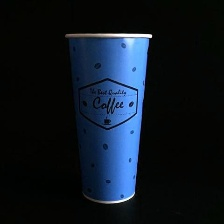paper_cup: (59, 28, 154, 207)
